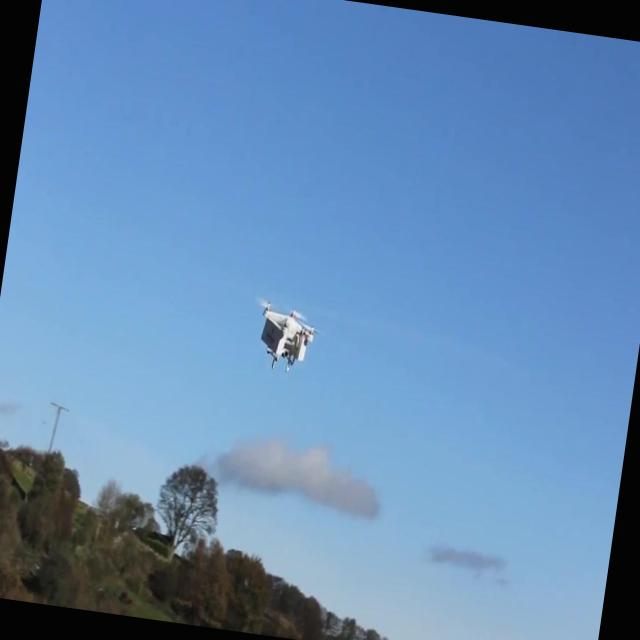drone: (248, 295, 324, 383)
